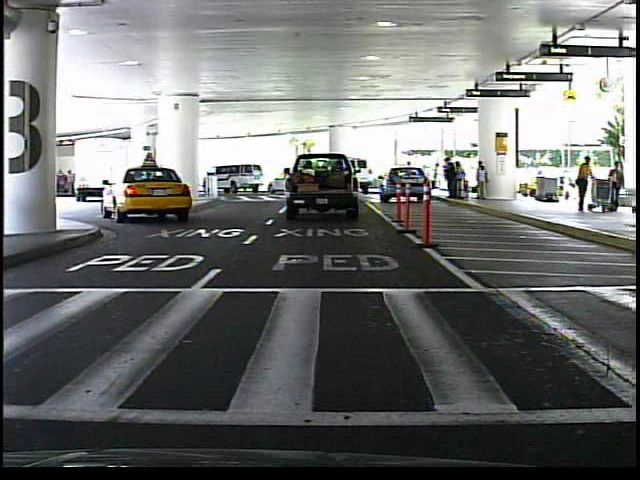person: (571, 153, 597, 216), (607, 157, 628, 214), (403, 158, 418, 193)
